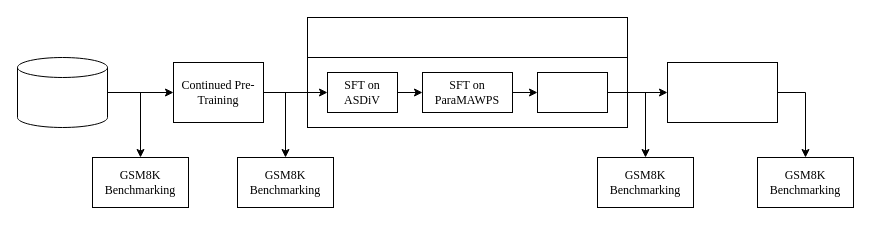
This 871x225 diagram has some shape labels left out. Here are the shapes that lost their labels. From the top down, the box of each, then its label:
(306, 16, 628, 58): Curriculum Learning
(16, 56, 108, 128): Raw Language Model
(536, 72, 608, 112): SFT on DMath
(666, 62, 778, 122): Instruction Fine-Tuning
